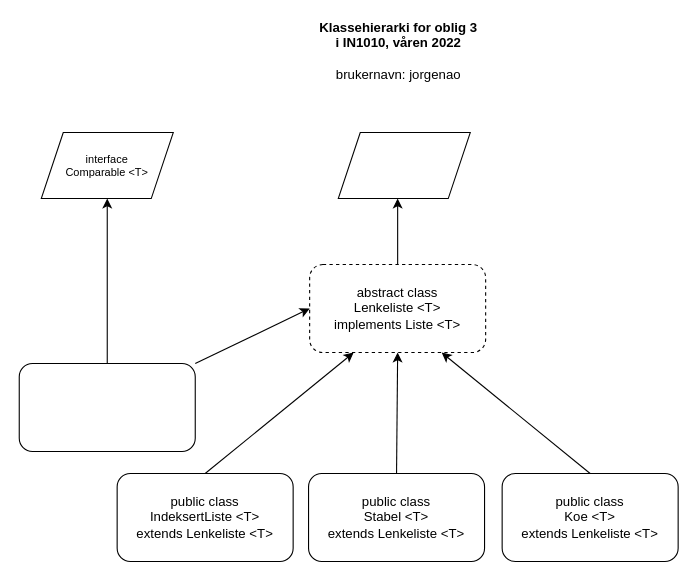
Image size: 697x581. Some labels were removed from this diagram. Here are the shapes that lost their labels. From the top down, the centre of each, then its label:
pixel 403 165: interface Liste <T>
pixel 106 407: public class Prioritetskoe <T extends Comparable <T>> extends Lenkeliste <T>
